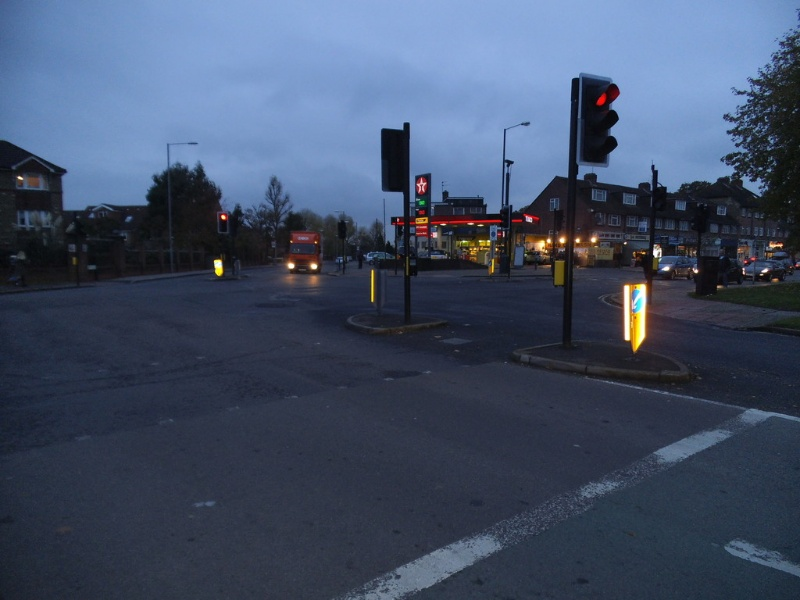red_light: (579, 73, 638, 123)
